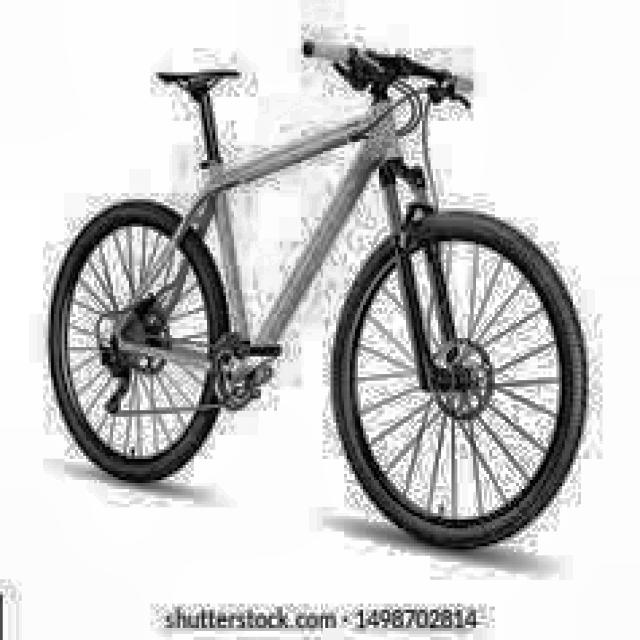bicycle: (49, 34, 590, 556)
